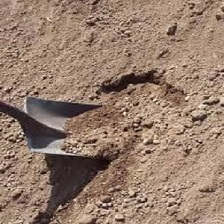sandy_soil: (23, 18, 216, 199)
